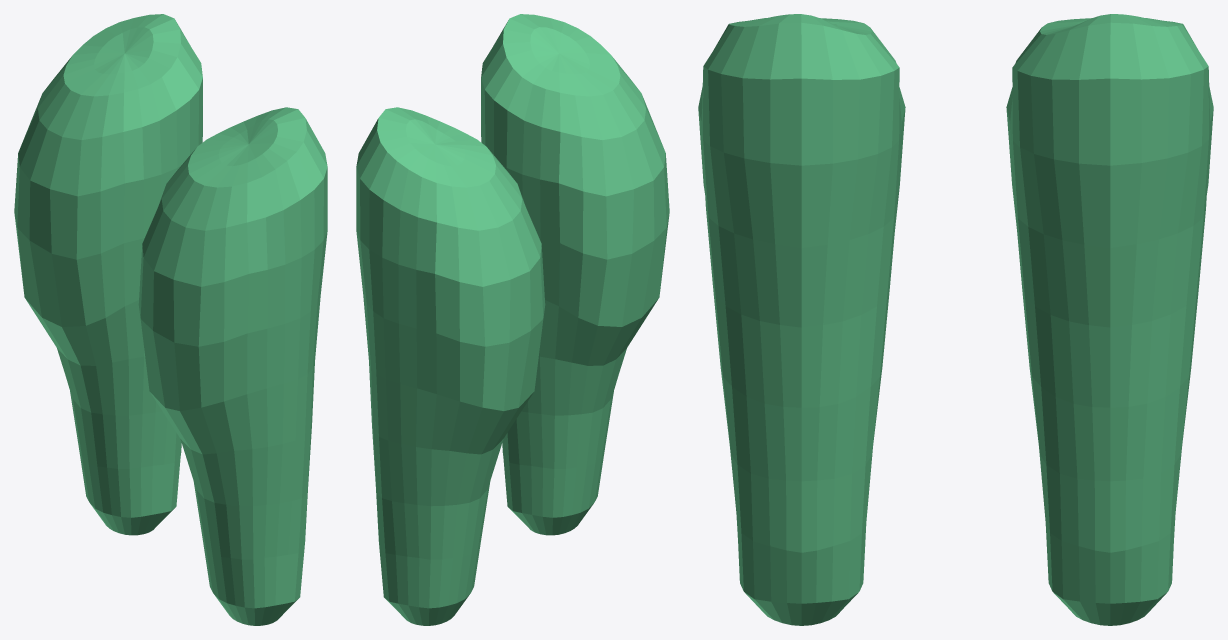
The model's file is lowerLegs_variant-2.glb.
The picture shows the model from 3 angles, left to right: view 1: azimuth 30°, elevation 25°; view 2: azimuth 150°, elevation 25°; view 3: azimuth 270°, elevation 25°; orthographic projection. The views are drawn at different scales.
Visible parts, largest first — view 1: legs-lower-1; view 2: legs-lower-1; view 3: legs-lower-1.
Boxes of the visible parts, x1,y1,x2,y2 form: legs-lower-1: [14, 14, 327, 625]; legs-lower-1: [356, 14, 669, 625]; legs-lower-1: [698, 14, 1213, 625].
Size of the model in its own units: 0.3753 by 1.07 by 0.8027.
